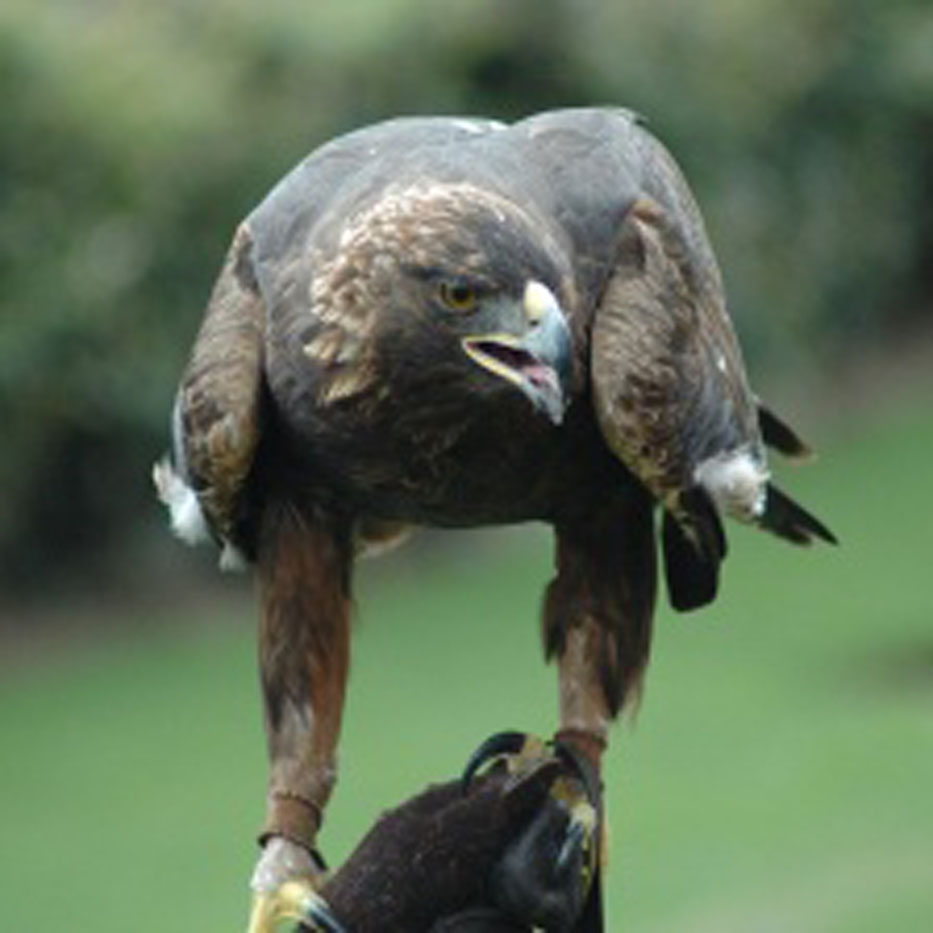Pengoyak Daging: (502, 290, 590, 447)
